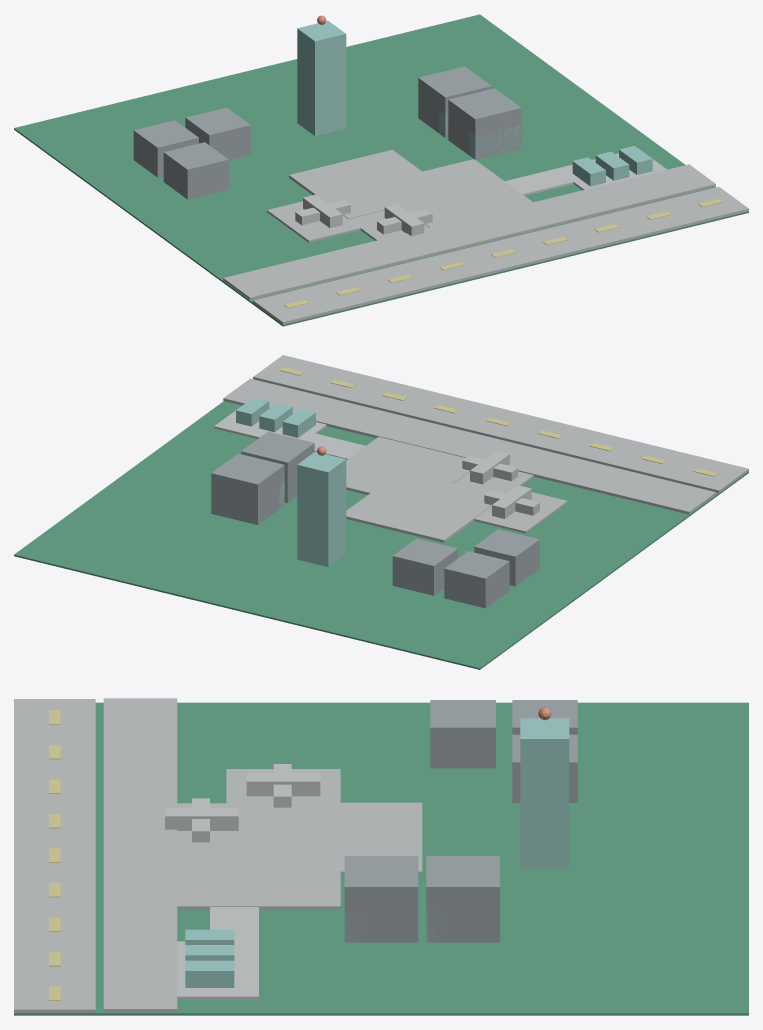
The model's file is stage_13.glb.
3 views of the same model, one above another, from view 1: azimuth 30°, elevation 25°; view 2: azimuth 150°, elevation 25°; view 3: azimuth 270°, elevation 25° (orthographic). The views are drawn at different scales.
Parts seen in each view (by area): view 1: geometry_0; view 2: geometry_0; view 3: geometry_0.
Part boxes in pixels (x1,y1,x2,y2): geometry_0: (14,14,748,326); geometry_0: (14,355,748,669); geometry_0: (14,698,748,1015).
Size of the model in its own units: 9 by 2.06 by 9.
